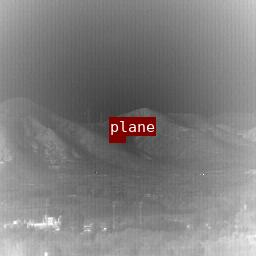plane: (109, 136, 125, 142)
